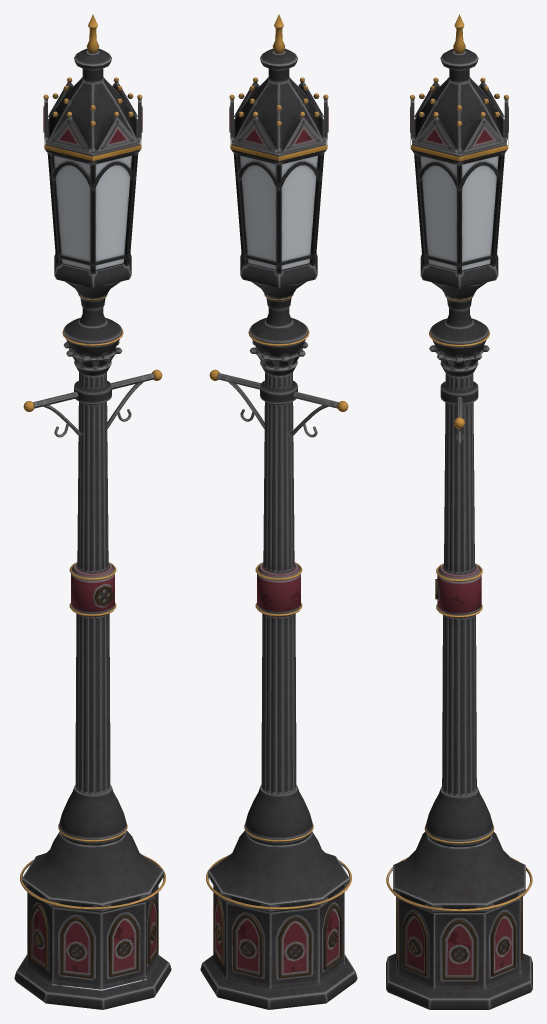
The model's file is GasLampPost.fbx.
3 renders of one model, left to right at view 1: azimuth 30°, elevation 25°; view 2: azimuth 150°, elevation 25°; view 3: azimuth 270°, elevation 25°, orthographic.
Parts seen in each view (by area): view 1: GasLampPost_Main, GasLampPost_Glass; view 2: GasLampPost_Main, GasLampPost_Glass; view 3: GasLampPost_Main, GasLampPost_Glass.
Boxes of the visible parts, x1=… form: GasLampPost_Main: x1=14, y1=14, x2=171, y2=1009; GasLampPost_Glass: x1=54, y1=155, x2=131, y2=269; GasLampPost_Main: x1=200, y1=14, x2=357, y2=1009; GasLampPost_Glass: x1=240, y1=155, x2=317, y2=269; GasLampPost_Main: x1=386, y1=14, x2=532, y2=1009; GasLampPost_Glass: x1=420, y1=156, x2=498, y2=270.
Bounding box in the file's own units: 168 × 1125 × 155.
